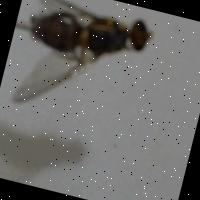Oriental-fruit-fly: (0, 0, 181, 145)
